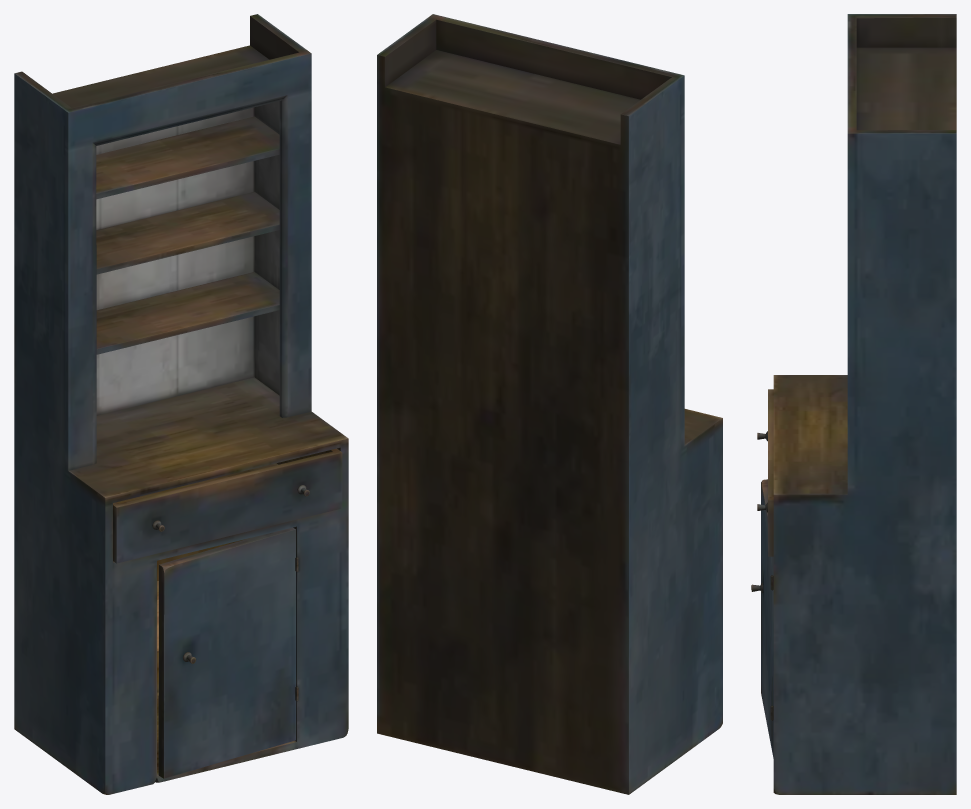
File: painted_wooden_cabinet_02.glb
The picture shows the model from 3 angles, left to right: view 1: azimuth 30°, elevation 25°; view 2: azimuth 150°, elevation 25°; view 3: azimuth 270°, elevation 25°; orthographic projection. The views are drawn at different scales.
Parts seen in each view (by area): view 1: painted_wooden_cabinet_02; view 2: painted_wooden_cabinet_02; view 3: painted_wooden_cabinet_02.
Part boxes in pixels (<box>): painted_wooden_cabinet_02: <box>14,14,348,794</box>; painted_wooden_cabinet_02: <box>377,14,722,794</box>; painted_wooden_cabinet_02: <box>751,14,956,794</box>.
Size of the model in its own units: 0.9969 by 2.57 by 0.7225.
1 material, 1 textured.
